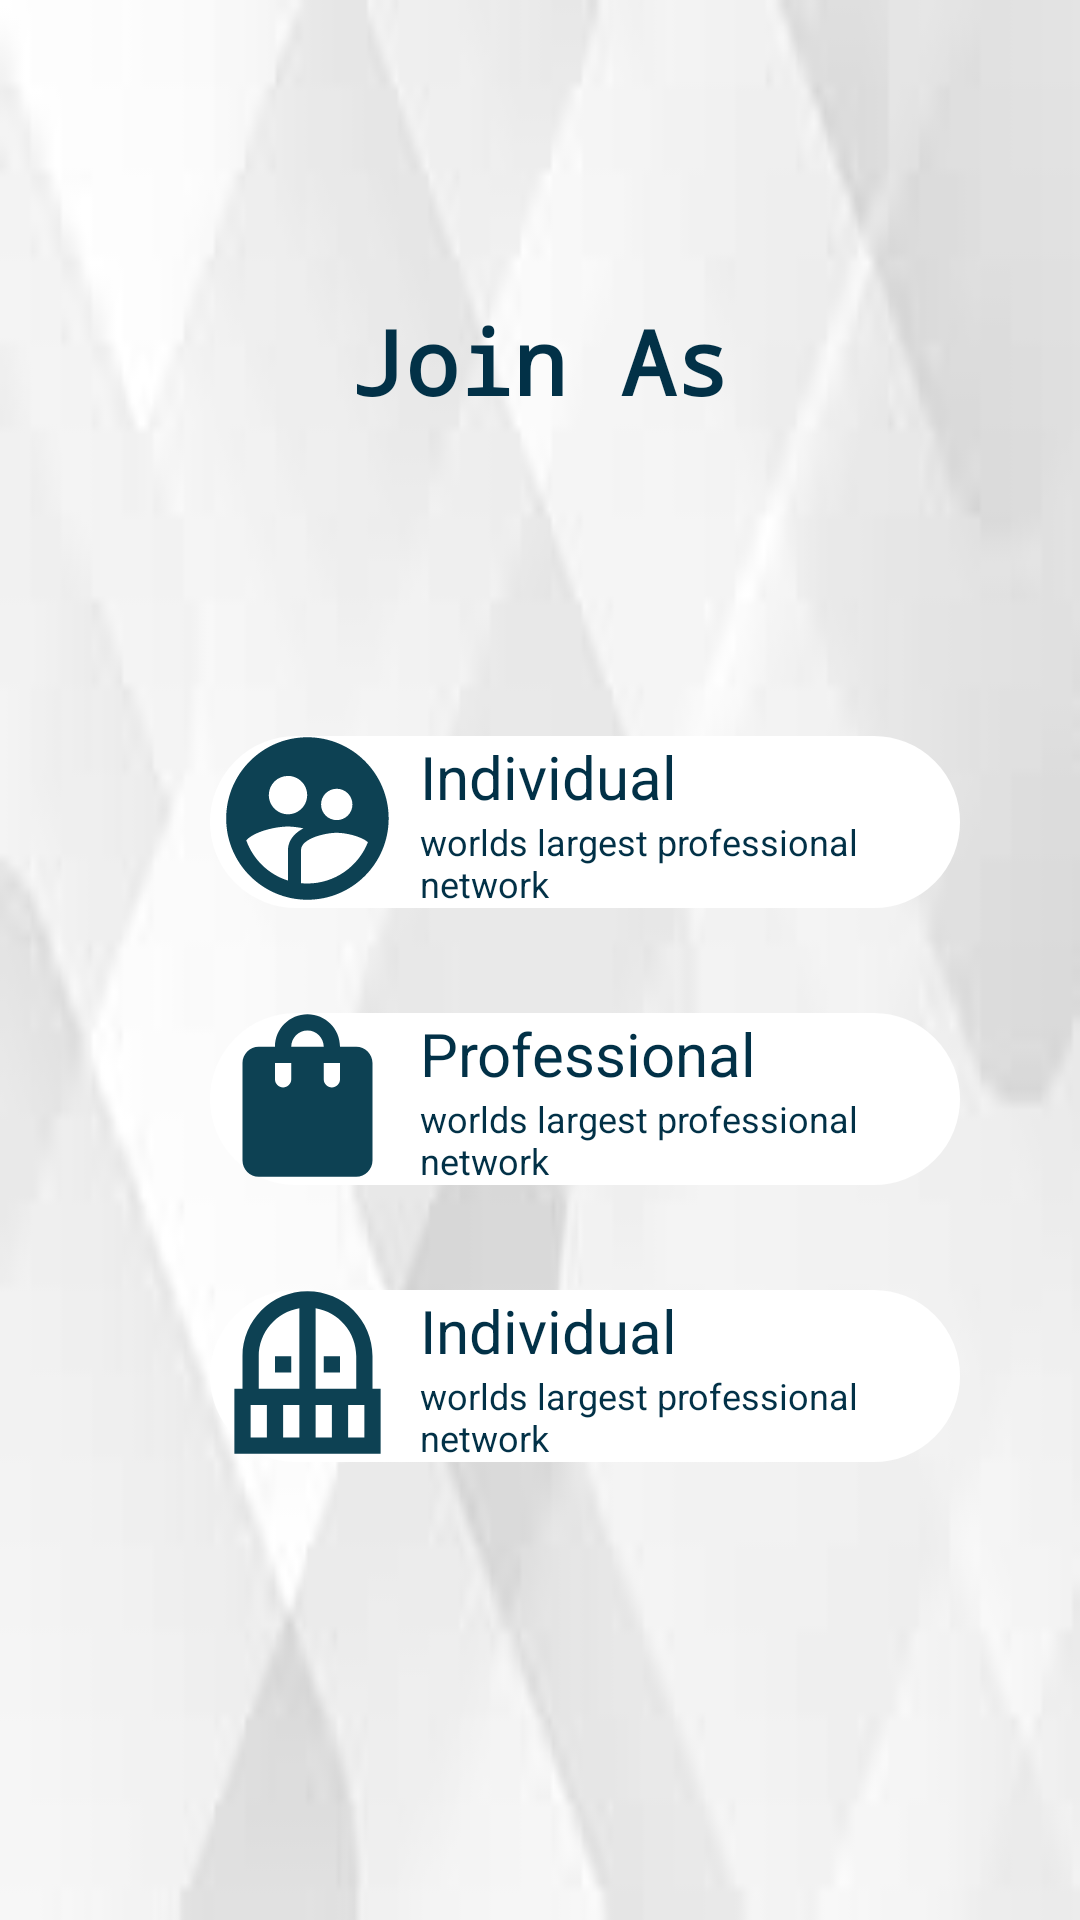

Screen size 1080×1920. Icon name, then its center in pixels as (x=x, y=y):
mercgant: (x=307, y=1372)
